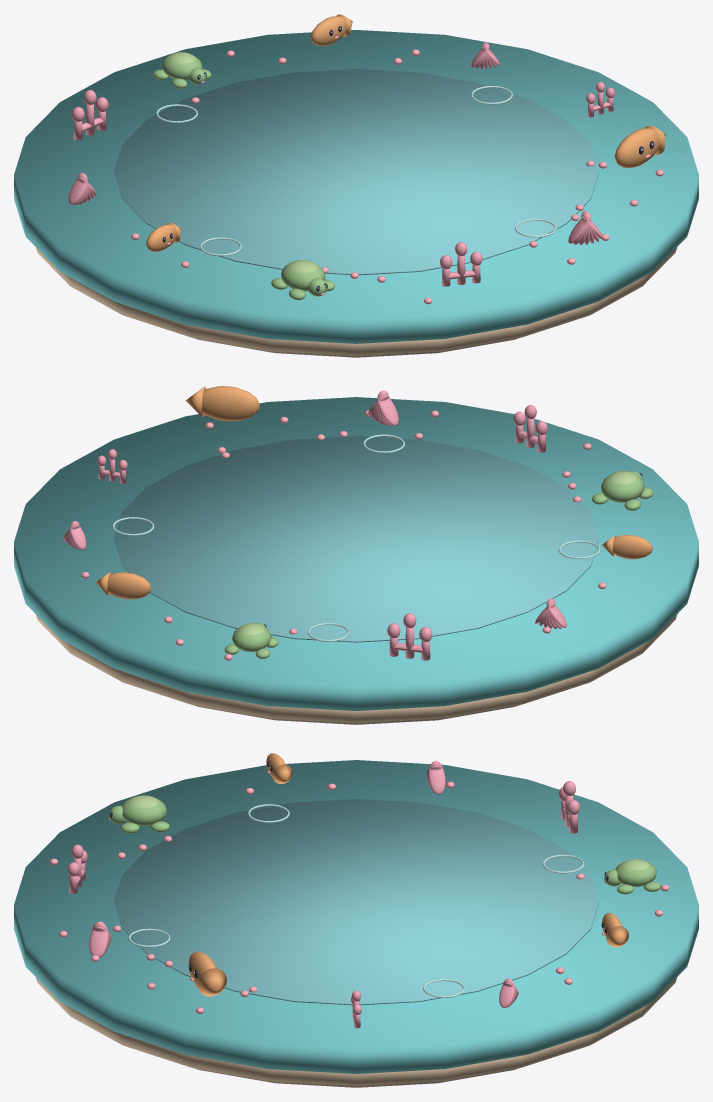
The model's file is world.glb.
The picture shows the model from 3 angles, top to bottom: view 1: azimuth 30°, elevation 25°; view 2: azimuth 150°, elevation 25°; view 3: azimuth 270°, elevation 25°; orthographic projection.
Parts seen in each view (by area): view 1: Cone, Cone.003, Cone.001, turtle.002, fish.003, turtle.001, coral.002, coral.003, fish.001, shell.003, fish.002, coral.001 (+2 smaller); view 2: Cone, Cone.003, Cone.001, fish.003, turtle.002, turtle.001, coral.002, fish.001, coral.003, fish.002, shell.003, coral.001 (+2 smaller); view 3: Cone, Cone.003, Cone.001, turtle.002, turtle.001, fish.003, coral.002, coral.003, fish.001, shell.003, Cone.002, fish.002.
Boxes of the visible parts, left/top/right/bottom form: Cone: left=14, top=30, right=698, bottom=343; Cone.003: left=114, top=69, right=598, bottom=275; Cone.001: left=35, top=247, right=677, bottom=356; turtle.002: left=271, top=260, right=334, bottom=300; fish.003: left=614, top=125, right=665, bottom=167; turtle.001: left=153, top=52, right=211, bottom=88; coral.002: left=71, top=90, right=108, bottom=140; coral.003: left=440, top=242, right=482, bottom=286; fish.001: left=311, top=14, right=352, bottom=45; shell.003: left=568, top=211, right=603, bottom=245; fish.002: left=146, top=222, right=180, bottom=251; coral.001: left=586, top=82, right=614, bottom=117; Cone: left=14, top=397, right=698, bottom=710; Cone.003: left=114, top=436, right=598, bottom=642; Cone.001: left=35, top=614, right=677, bottom=723; fish.003: left=185, top=386, right=259, bottom=421; turtle.002: left=592, top=471, right=653, bottom=510; turtle.001: left=224, top=623, right=278, bottom=658; coral.002: left=387, top=613, right=432, bottom=660; fish.001: left=96, top=572, right=151, bottom=599; coral.003: left=513, top=405, right=547, bottom=452; fish.002: left=602, top=535, right=652, bottom=559; shell.003: left=367, top=390, right=398, bottom=425; coral.001: left=97, top=449, right=127, bottom=483; Cone: left=14, top=760, right=698, bottom=1073; Cone.003: left=114, top=799, right=598, bottom=1005; Cone.001: left=35, top=977, right=677, bottom=1086; turtle.002: left=108, top=795, right=169, bottom=833; turtle.001: left=604, top=859, right=660, bottom=894; fish.003: left=188, top=951, right=226, bottom=996; coral.002: left=559, top=781, right=579, bottom=833; coral.003: left=67, top=844, right=87, bottom=893; fish.001: left=601, top=913, right=628, bottom=947; shell.003: left=89, top=921, right=111, bottom=957; Cone.002: left=193, top=1068, right=519, bottom=1087; fish.002: left=266, top=753, right=292, bottom=783.
Size of the model in its own units: 9.6 by 1.53 by 9.6.
